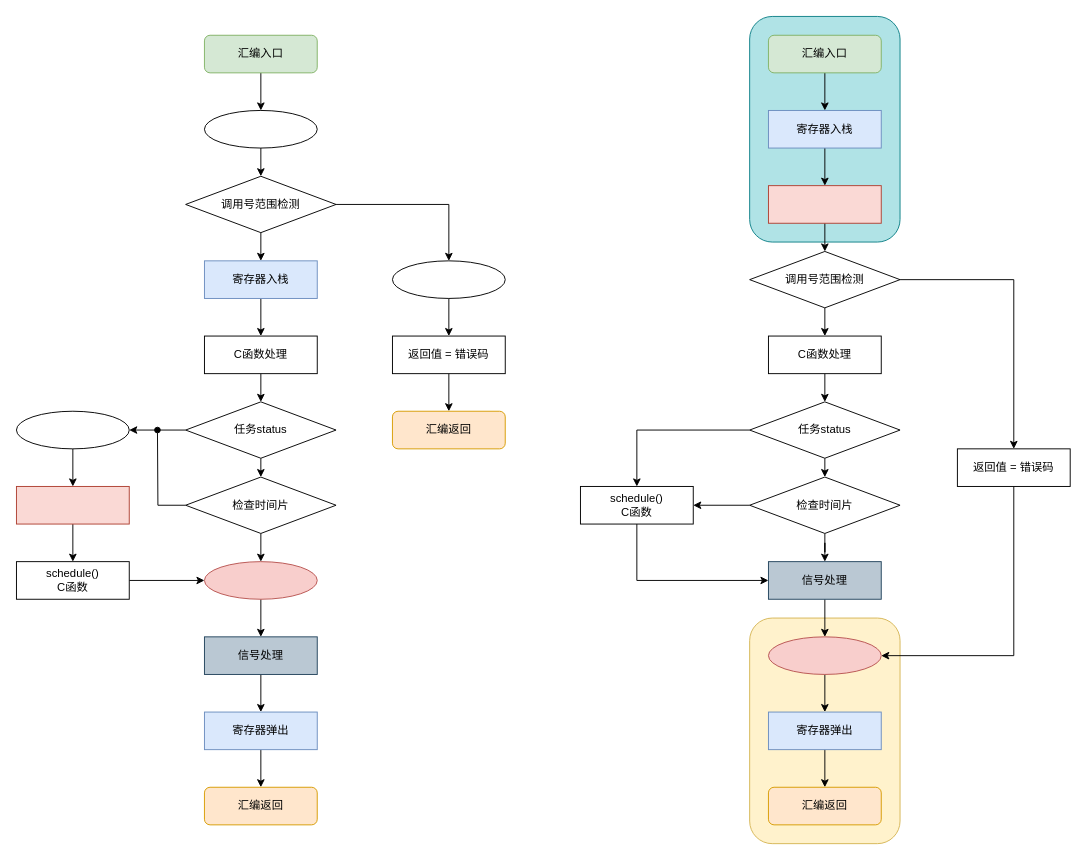
Some shapes in this 1087 by 860 pixel diagram are drawn without their labels. The shapes that lost their labels are listed below. From the top down, each one's centre as x and y in pixels, then its label:
At (260,129): "system_call".
At (824,204): "设置返回点为 ret_from_exception".
At (448,279): "bad_sys_call".
At (72,429): "reschedule".
At (72,505): "设置返回点为 ret_from_sys_call".
At (260,580): "ret_from_sys_call".
At (824,655): "ret_from_exception".
